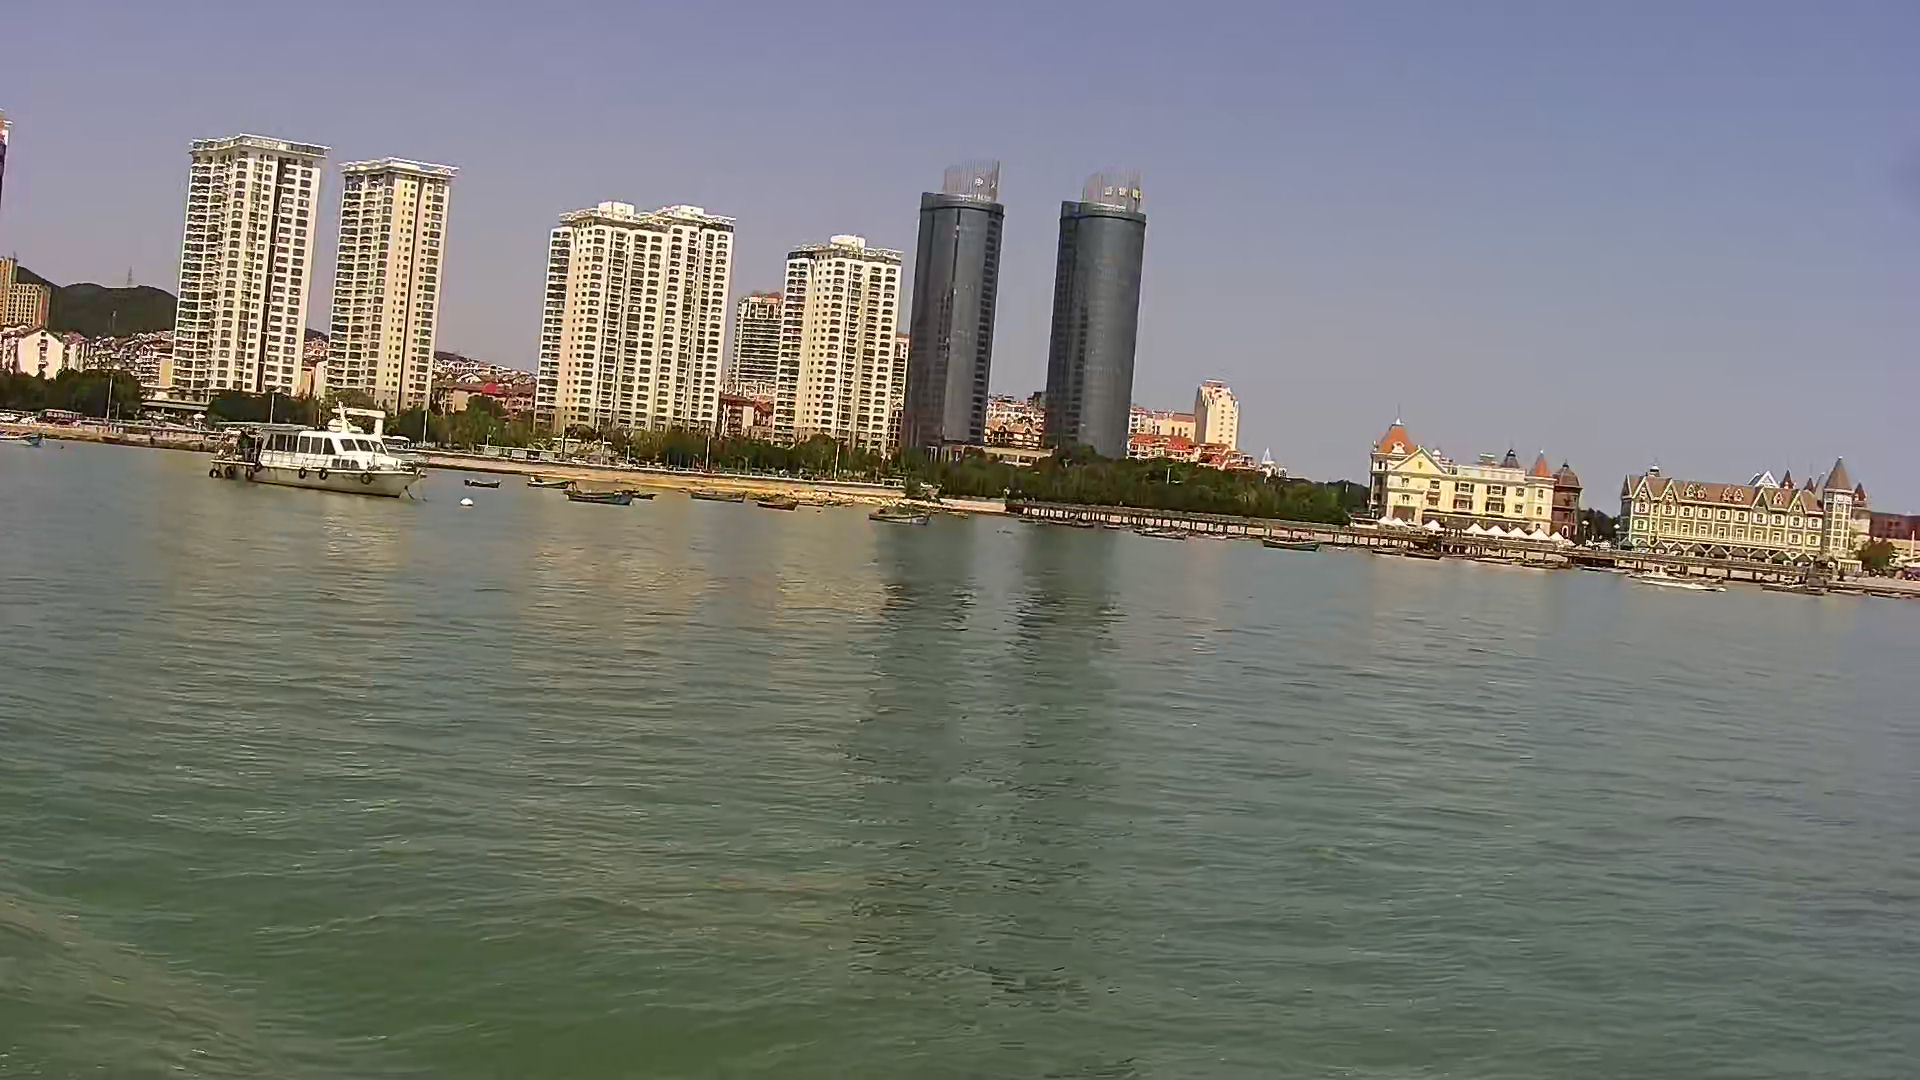ship: (207, 402, 425, 506)
